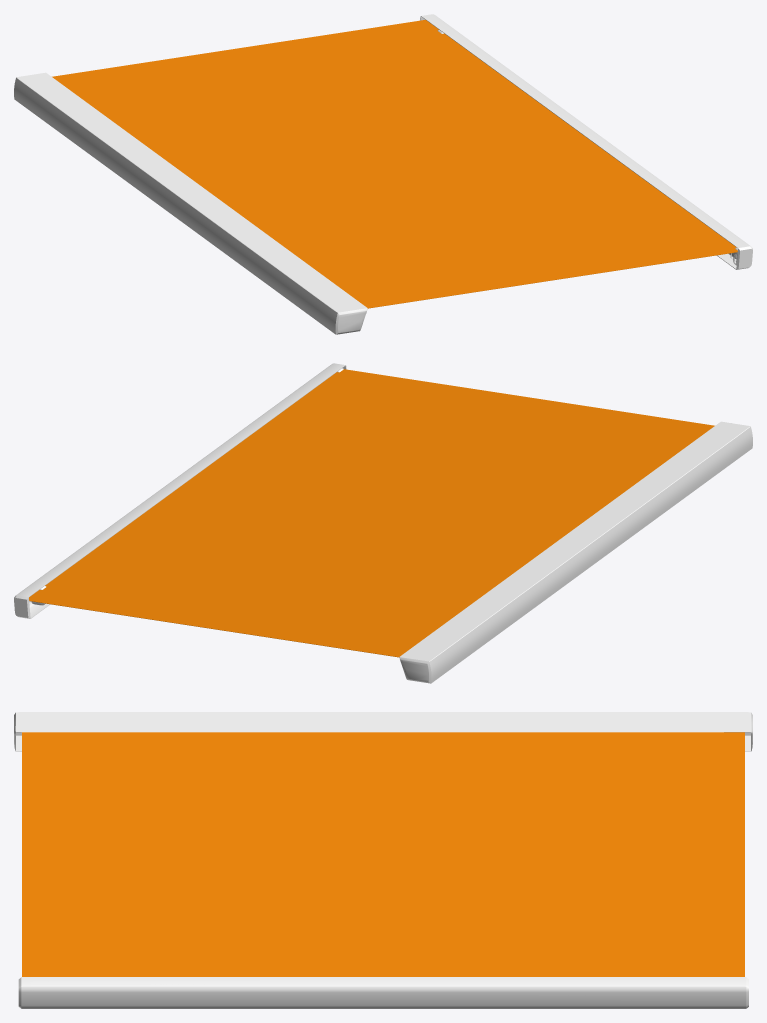
The model's file is Sonnentraum.glb.
3 renders of one model, top to bottom at view 1: azimuth 30°, elevation 25°; view 2: azimuth 150°, elevation 25°; view 3: azimuth 270°, elevation 25°, orthographic. The views are drawn at different scales.
Parts seen in each view (by area): view 1: Plane.001, Edge.003, Plane; view 2: Plane.001, Edge.003, Plane; view 3: Plane.001, Plane, Edge.003.
Part boxes in pixels (<box>): Plane.001: <box>52,20,737,308</box>; Edge.003: <box>14,72,367,334</box>; Plane: <box>420,14,752,269</box>; Plane.001: <box>29,369,714,657</box>; Edge.003: <box>399,421,752,683</box>; Plane: <box>14,363,346,618</box>; Plane.001: <box>22,732,744,976</box>; Plane: <box>18,977,748,1008</box>; Edge.003: <box>14,712,752,751</box>.
Size of the model in its own units: 3 by 0.3955 by 4.
5 materials, 1 textured.
